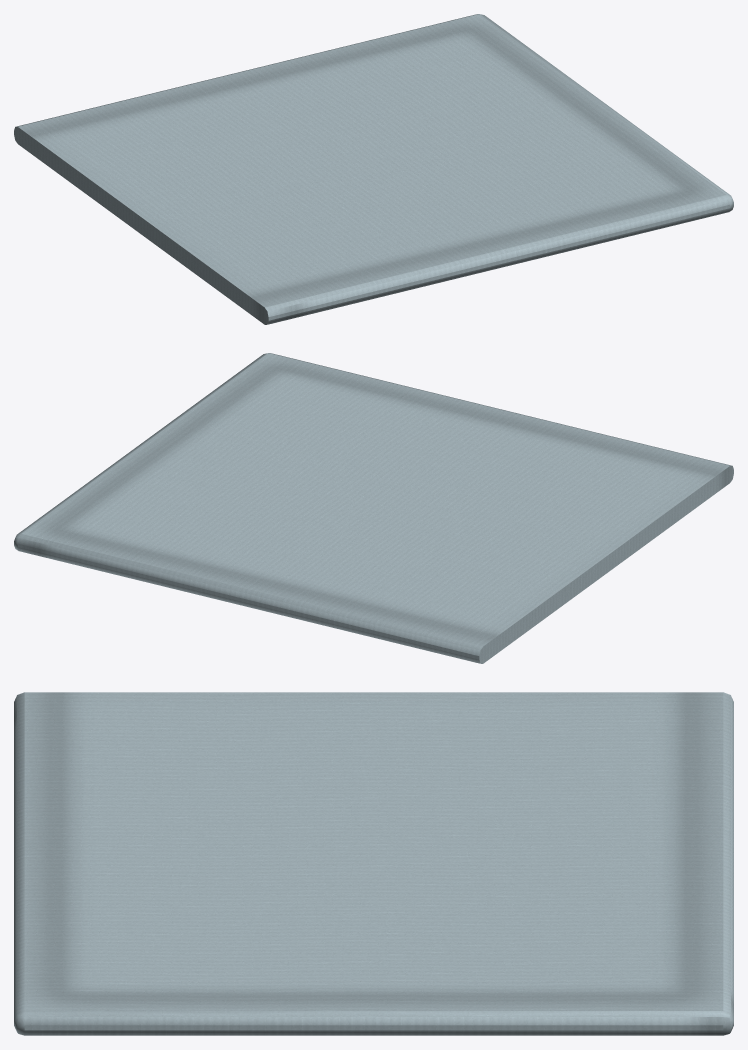
File: 20-rounded-bottom-tin-rim-2.fbx
The picture shows the model from 3 angles, top to bottom: view 1: azimuth 30°, elevation 25°; view 2: azimuth 150°, elevation 25°; view 3: azimuth 270°, elevation 25°; orthographic projection. The views are drawn at different scales.
Parts seen in each view (by area): view 1: rounded-bottom-tin-rim-2; view 2: rounded-bottom-tin-rim-2; view 3: rounded-bottom-tin-rim-2.
Boxes of the visible parts, x1,y1,x2,y2 form: rounded-bottom-tin-rim-2: (14, 14, 733, 324); rounded-bottom-tin-rim-2: (14, 353, 733, 663); rounded-bottom-tin-rim-2: (14, 692, 733, 1035).
Size of the model in its own units: 8500 by 300 by 8000.
1 material, 1 textured.
